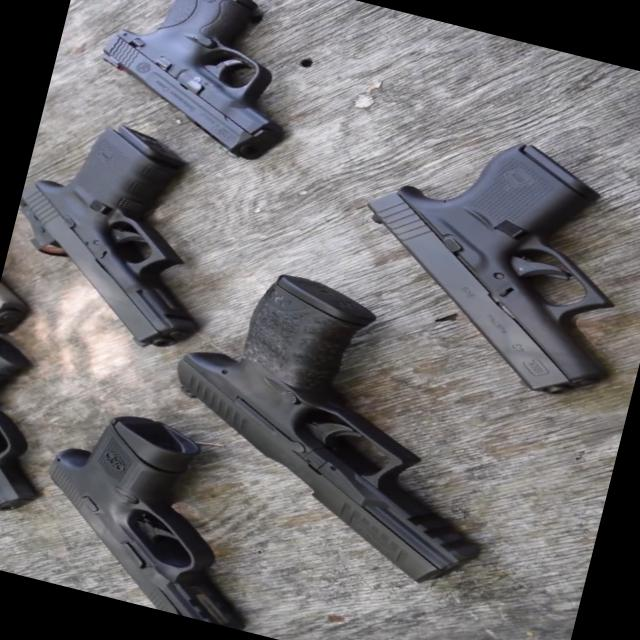handgun: (142, 250, 526, 596), (302, 97, 639, 423), (20, 377, 312, 635), (0, 97, 249, 365), (75, 0, 324, 175)
